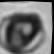correct: (0, 7, 50, 54)
